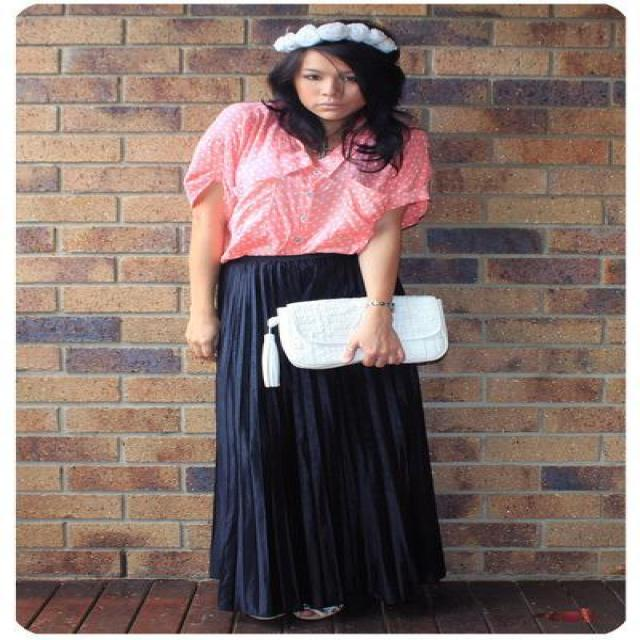bag: (263, 296, 447, 386)
shirt: (184, 102, 446, 255)
skirt: (200, 253, 466, 626)
